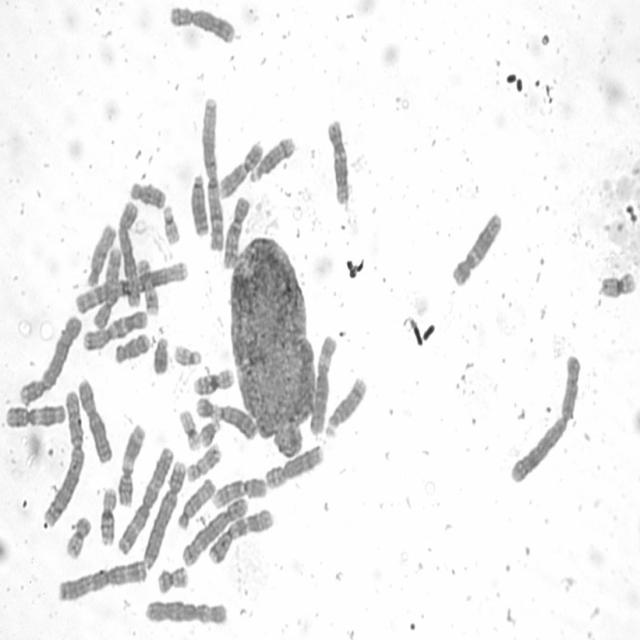A1: (73, 258, 190, 318), (198, 91, 226, 253)
A2: (508, 351, 582, 486), (41, 386, 86, 528)
A3: (116, 444, 176, 556), (54, 558, 148, 604)
B4: (17, 311, 84, 407), (140, 457, 188, 570)
B5: (180, 494, 250, 568), (116, 198, 140, 308)
C10: (91, 245, 122, 333), (220, 192, 252, 271)
C11: (116, 419, 147, 506), (3, 401, 66, 430)
C12: (449, 208, 504, 288), (325, 115, 352, 207)
C6: (307, 331, 339, 438), (142, 595, 229, 626)
C7: (205, 505, 275, 566), (80, 307, 149, 352)
C8: (262, 441, 326, 492), (167, 2, 237, 46)
C9: (216, 138, 264, 200), (210, 474, 267, 511)
D13: (215, 398, 261, 439), (187, 171, 211, 238)
D14: (322, 374, 367, 439), (247, 133, 297, 185)
D15: (175, 475, 217, 531), (84, 220, 118, 288)
E16: (191, 365, 235, 396), (97, 483, 118, 546)
E17: (185, 441, 223, 484), (136, 255, 160, 318)
E18: (112, 329, 151, 365), (128, 178, 167, 210)
F19: (596, 269, 637, 299), (176, 407, 202, 452)
F20: (64, 514, 92, 561), (156, 564, 189, 594)
G21: (194, 398, 224, 428), (198, 416, 221, 448)
G22: (160, 201, 182, 246), (172, 341, 203, 367)
X: (76, 375, 114, 465)
Y: (151, 334, 169, 376)
